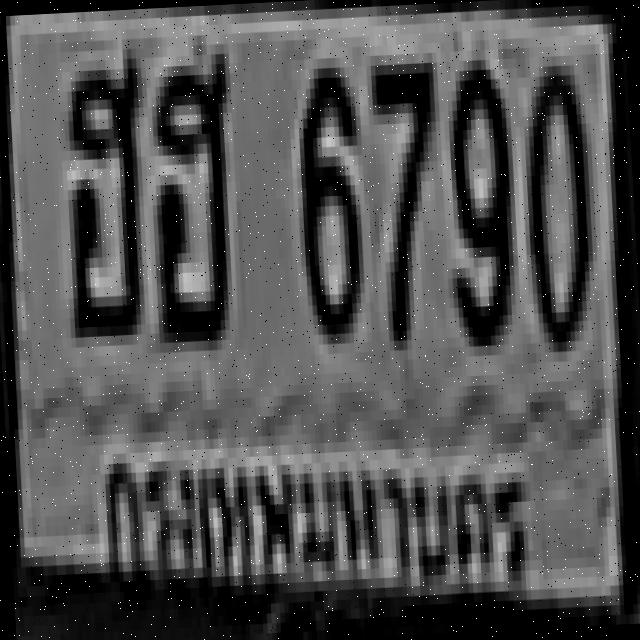0: (516, 55, 593, 343)
53HorNokHook: (140, 44, 239, 343), (54, 48, 153, 338)
6: (290, 57, 362, 336)
7: (366, 54, 442, 342)
9: (436, 50, 513, 338)
Bangkok: (90, 404, 536, 624)
